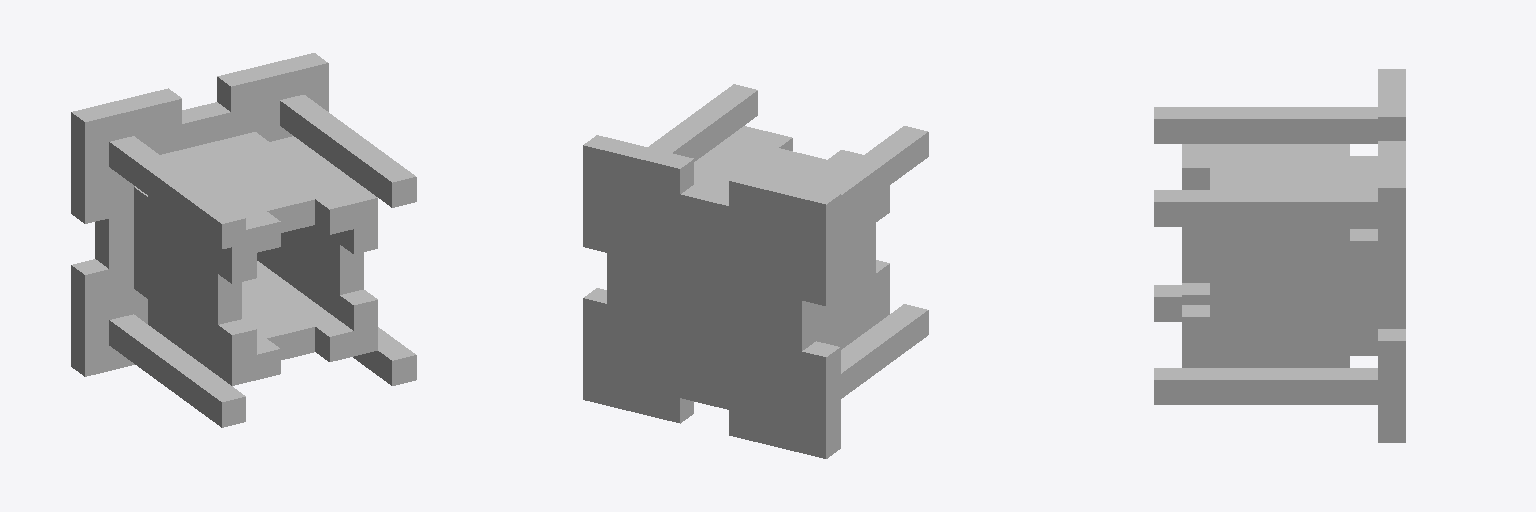
File: urn.obj
3 views of the same model, side by side, from view 1: azimuth 30°, elevation 25°; view 2: azimuth 150°, elevation 25°; view 3: azimuth 270°, elevation 25° (orthographic).
Size of the model in its own units: 10 by 10 by 9.